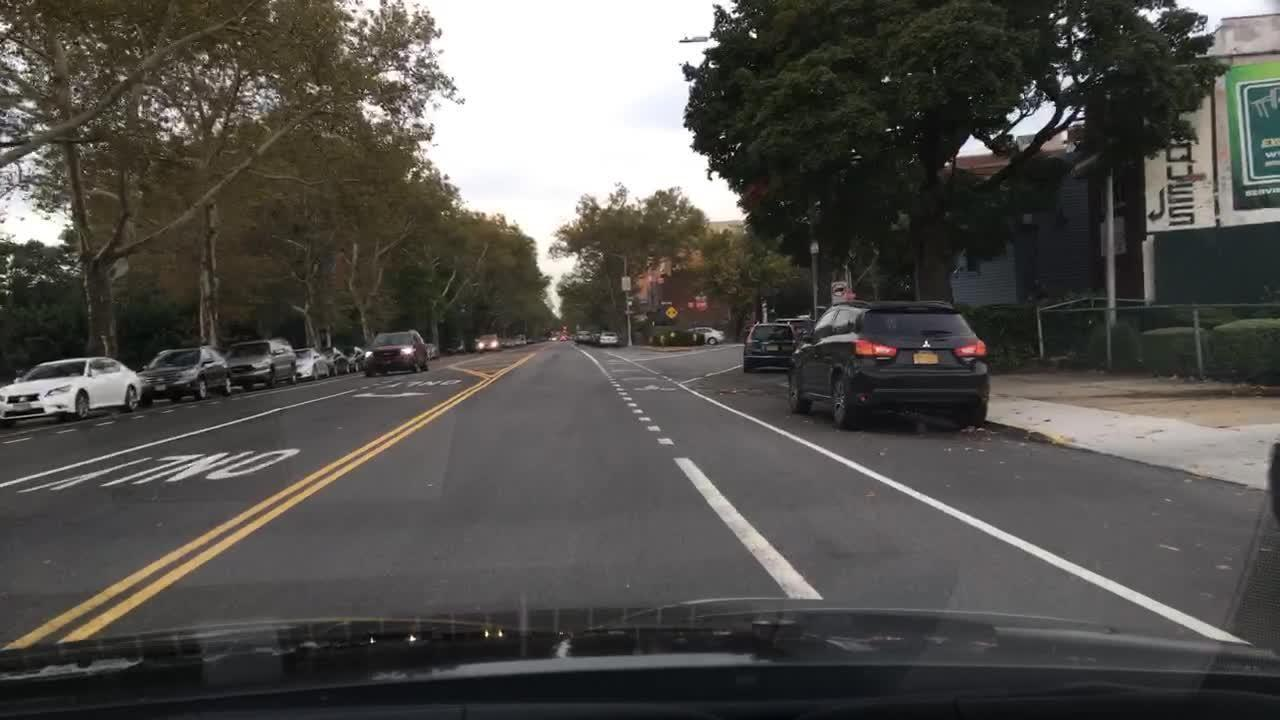Mitsubishi: (919, 335, 934, 351)
